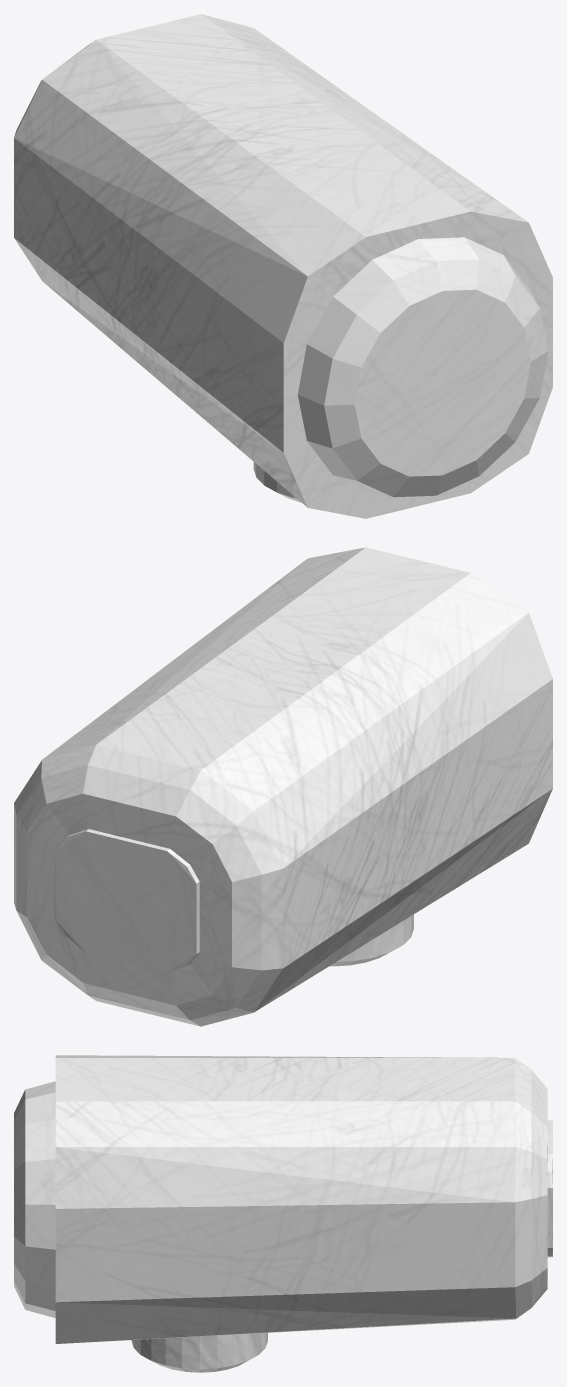
The model's file is rotor.dae.
The picture shows the model from 3 angles, top to bottom: view 1: azimuth 30°, elevation 25°; view 2: azimuth 150°, elevation 25°; view 3: azimuth 270°, elevation 25°; orthographic projection. The views are drawn at different scales.
Visible parts, largest first — view 1: Rotor; view 2: Rotor; view 3: Rotor.
Part boxes in pixels (x1=…): Rotor: x1=14, y1=14, x2=552, y2=518; Rotor: x1=14, y1=547, x2=552, y2=1026; Rotor: x1=14, y1=1055, x2=552, y2=1372.
Size of the model in its own units: 1.2 by 2.44 by 1.35.
Materials: 1 (1 with a texture image).
